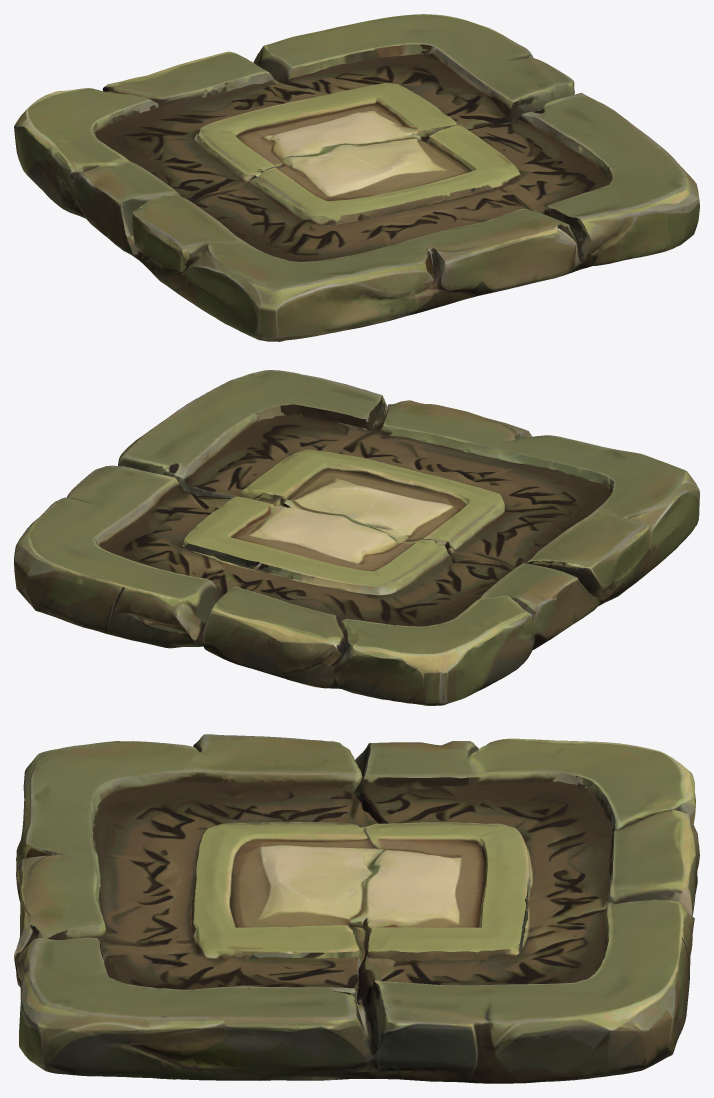
The model's file is floor_trap.glb.
3 views of the same model, one above another, from view 1: azimuth 30°, elevation 25°; view 2: azimuth 150°, elevation 25°; view 3: azimuth 270°, elevation 25° (orthographic). The views are drawn at different scales.
Parts seen in each view (by area): view 1: floor_trap; view 2: floor_trap; view 3: floor_trap.
Boxes of the visible parts, bbox=[...] form: floor_trap: bbox=[14, 14, 699, 341]; floor_trap: bbox=[14, 370, 699, 705]; floor_trap: bbox=[14, 734, 699, 1083].
Bounding box in the file's own units: 1.2 × 0.1312 × 1.19.
Materials: 1 (1 with a texture image).
